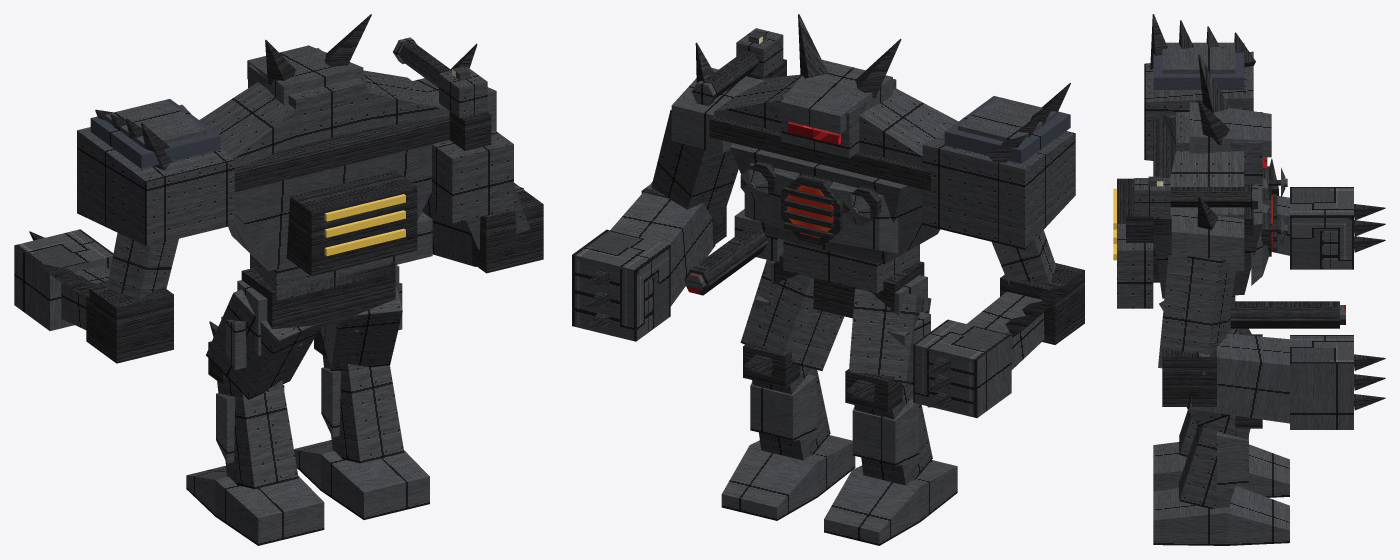
The model's file is nemesis.glb.
3 renders of one model, left to right at view 1: azimuth 30°, elevation 25°; view 2: azimuth 150°, elevation 25°; view 3: azimuth 270°, elevation 25°, orthographic. The views are drawn at different scales.
Parts seen in each view (by area): view 1: pauldron_l, condenser, chest, sabaton, sabaton.001, collar, rack, shin, elbow, pelvis, shin.001, thigh (+31 smaller); view 2: pauldron_l, sabaton, sabaton.001, thigh.001, chest, thigh, forearm.001, upper_arm.001, trapezius, hood, collar, fist_front.001 (+35 smaller); view 3: sabaton.001, forearm.001, upper_arm.001, fist_back_of_hand.001, pauldron_r, fist_palm, shin.001, sabaton, plasma_carbine, trapezius.001, elbow.001, pauldron_l (+22 smaller).
Part boxes in pixels (x1,y1,x2,y2): pauldron_l: [77, 104, 234, 246]; condenser: [286, 170, 417, 276]; chest: [228, 144, 431, 271]; sabaton: [186, 465, 324, 545]; sabaton.001: [294, 440, 429, 519]; collar: [234, 116, 449, 192]; rack: [432, 129, 513, 223]; shin: [217, 376, 298, 488]; elbow: [86, 281, 173, 363]; pelvis: [241, 261, 395, 330]; shin.001: [322, 355, 404, 463]; thigh: [206, 289, 320, 399]; pauldron_l: [922, 131, 1075, 249]; sabaton: [824, 460, 957, 545]; sabaton.001: [721, 435, 855, 520]; thigh.001: [740, 260, 844, 370]; chest: [730, 143, 940, 264]; thigh: [848, 288, 931, 385]; forearm.001: [610, 182, 715, 306]; upper_arm.001: [651, 109, 738, 223]; trapezius: [859, 88, 958, 166]; hood: [780, 59, 892, 133]; collar: [709, 116, 930, 191]; fist_front.001: [572, 255, 635, 341]; sabaton.001: [1153, 486, 1289, 545]; forearm.001: [1187, 333, 1289, 423]; upper_arm.001: [1158, 252, 1235, 374]; fist_back_of_hand.001: [1290, 363, 1353, 429]; pauldron_r: [1171, 207, 1244, 272]; fist_palm: [1290, 216, 1353, 269]; shin.001: [1179, 415, 1250, 508]; sabaton: [1153, 442, 1289, 497]; plasma_carbine: [1230, 301, 1339, 328]; trapezius.001: [1162, 151, 1244, 234]; elbow.001: [1162, 345, 1216, 406]; pauldron_l: [1144, 51, 1253, 160].
Bounding box in the file's own units: 102 × 104 × 59.81.
Materials: 14 (14 with a texture image).
